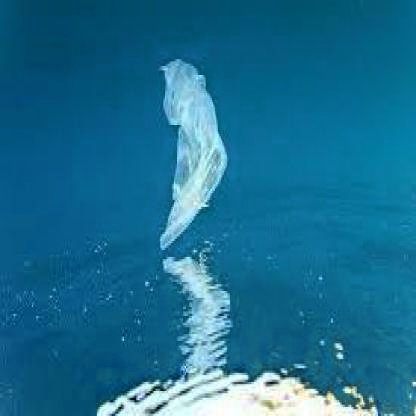pbag: (158, 57, 228, 252)
